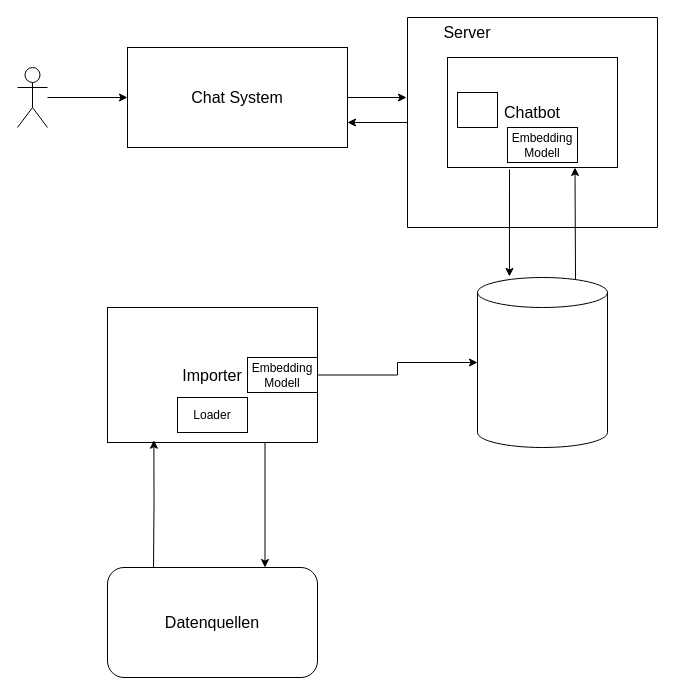
Some shapes in this 675 by 695 pixel diagram are drawn without their labels. The centre of each missing label's shape, as x and y in pixels:
LLM: point (477, 110)
User: point (32, 97)
Vektordatenbank: point (542, 362)
